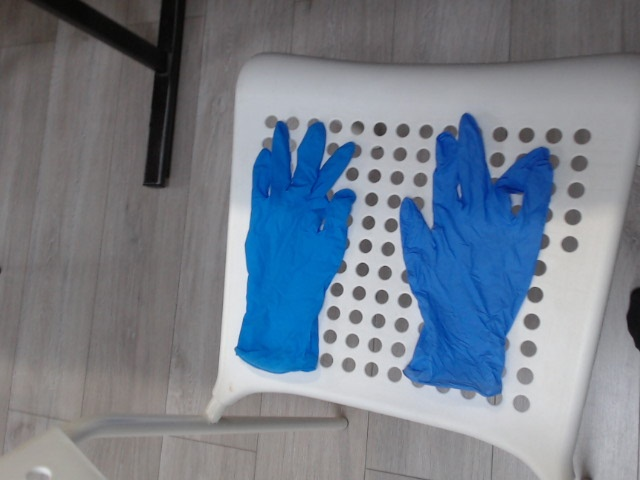medical_glove: (400, 113, 551, 397), (234, 121, 355, 366)
